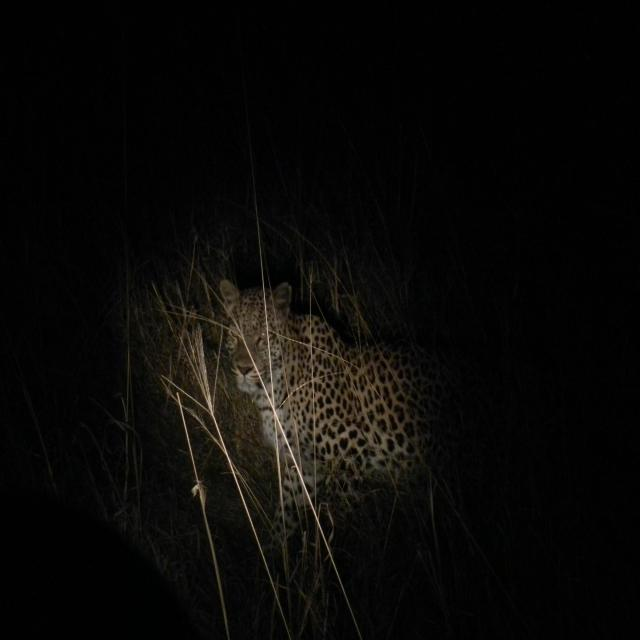Leopard: (206, 277, 469, 544)
